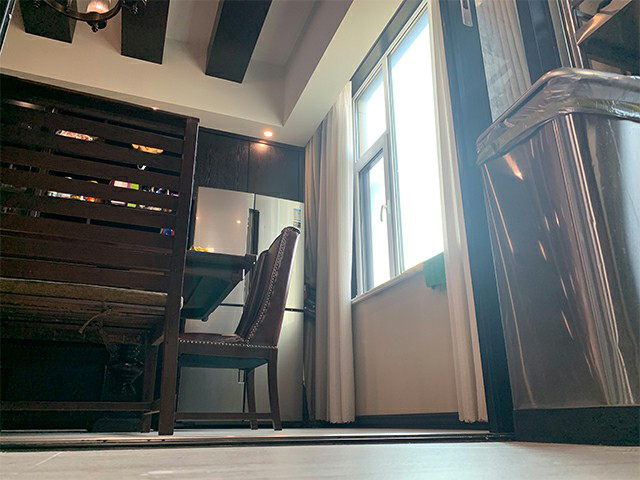curtain: (425, 1, 490, 424), (302, 80, 356, 425)
stool: (1, 71, 201, 436), (174, 225, 301, 432)
trashcan: (474, 66, 640, 447)
